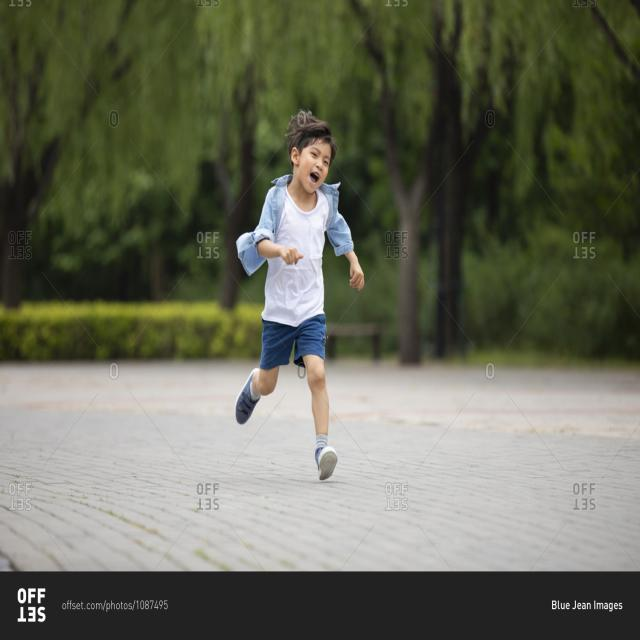Person: (235, 109, 365, 480)
